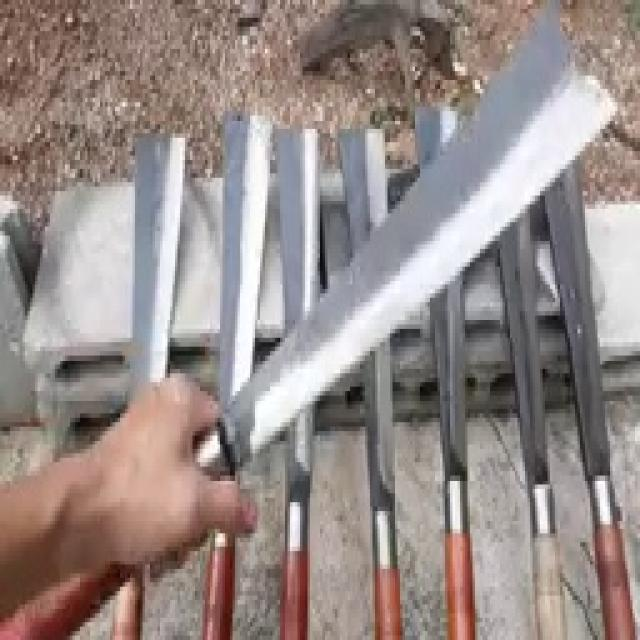eto: (0, 3, 618, 640)
